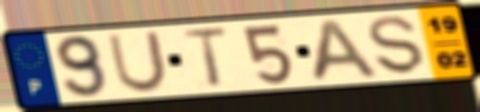5: (239, 21, 297, 86)
9: (52, 32, 112, 101)
A: (307, 16, 383, 84)
S: (366, 15, 429, 77)
T: (178, 25, 232, 90)
U: (105, 29, 170, 95)
